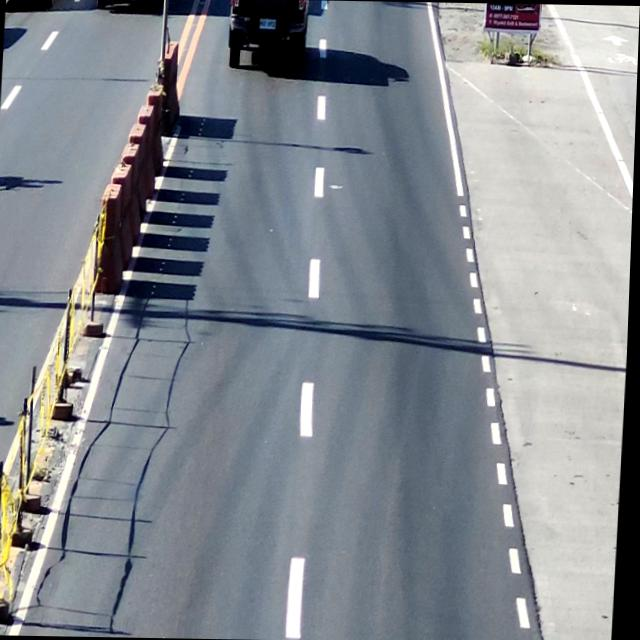Car: (223, 0, 310, 69)
